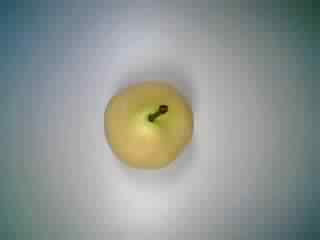pear: (93, 76, 198, 179)
